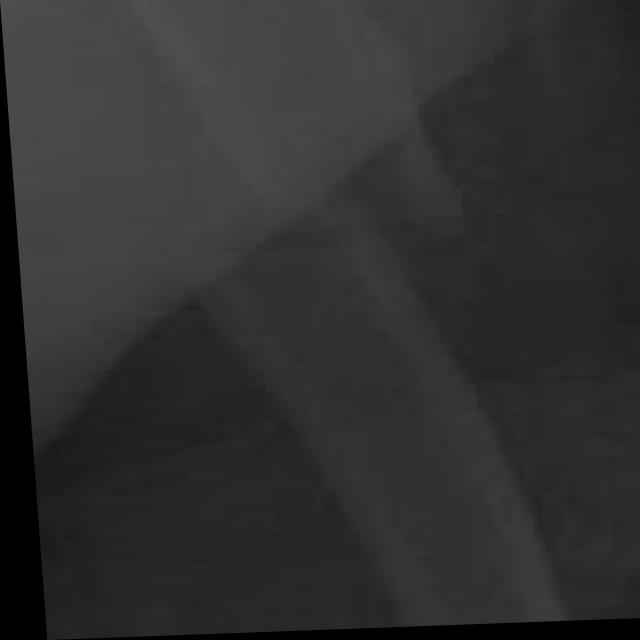fracture: (3, 0, 640, 634)
